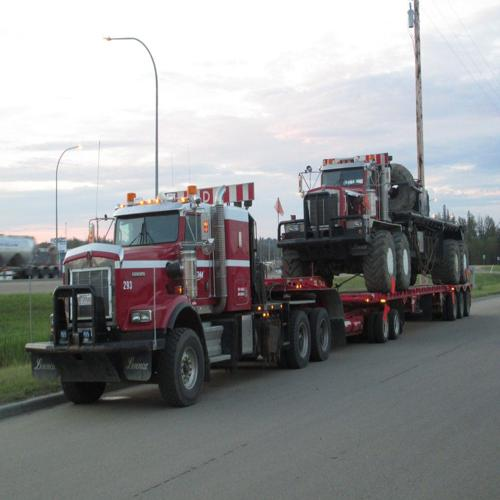con_eq: (281, 151, 472, 295)
